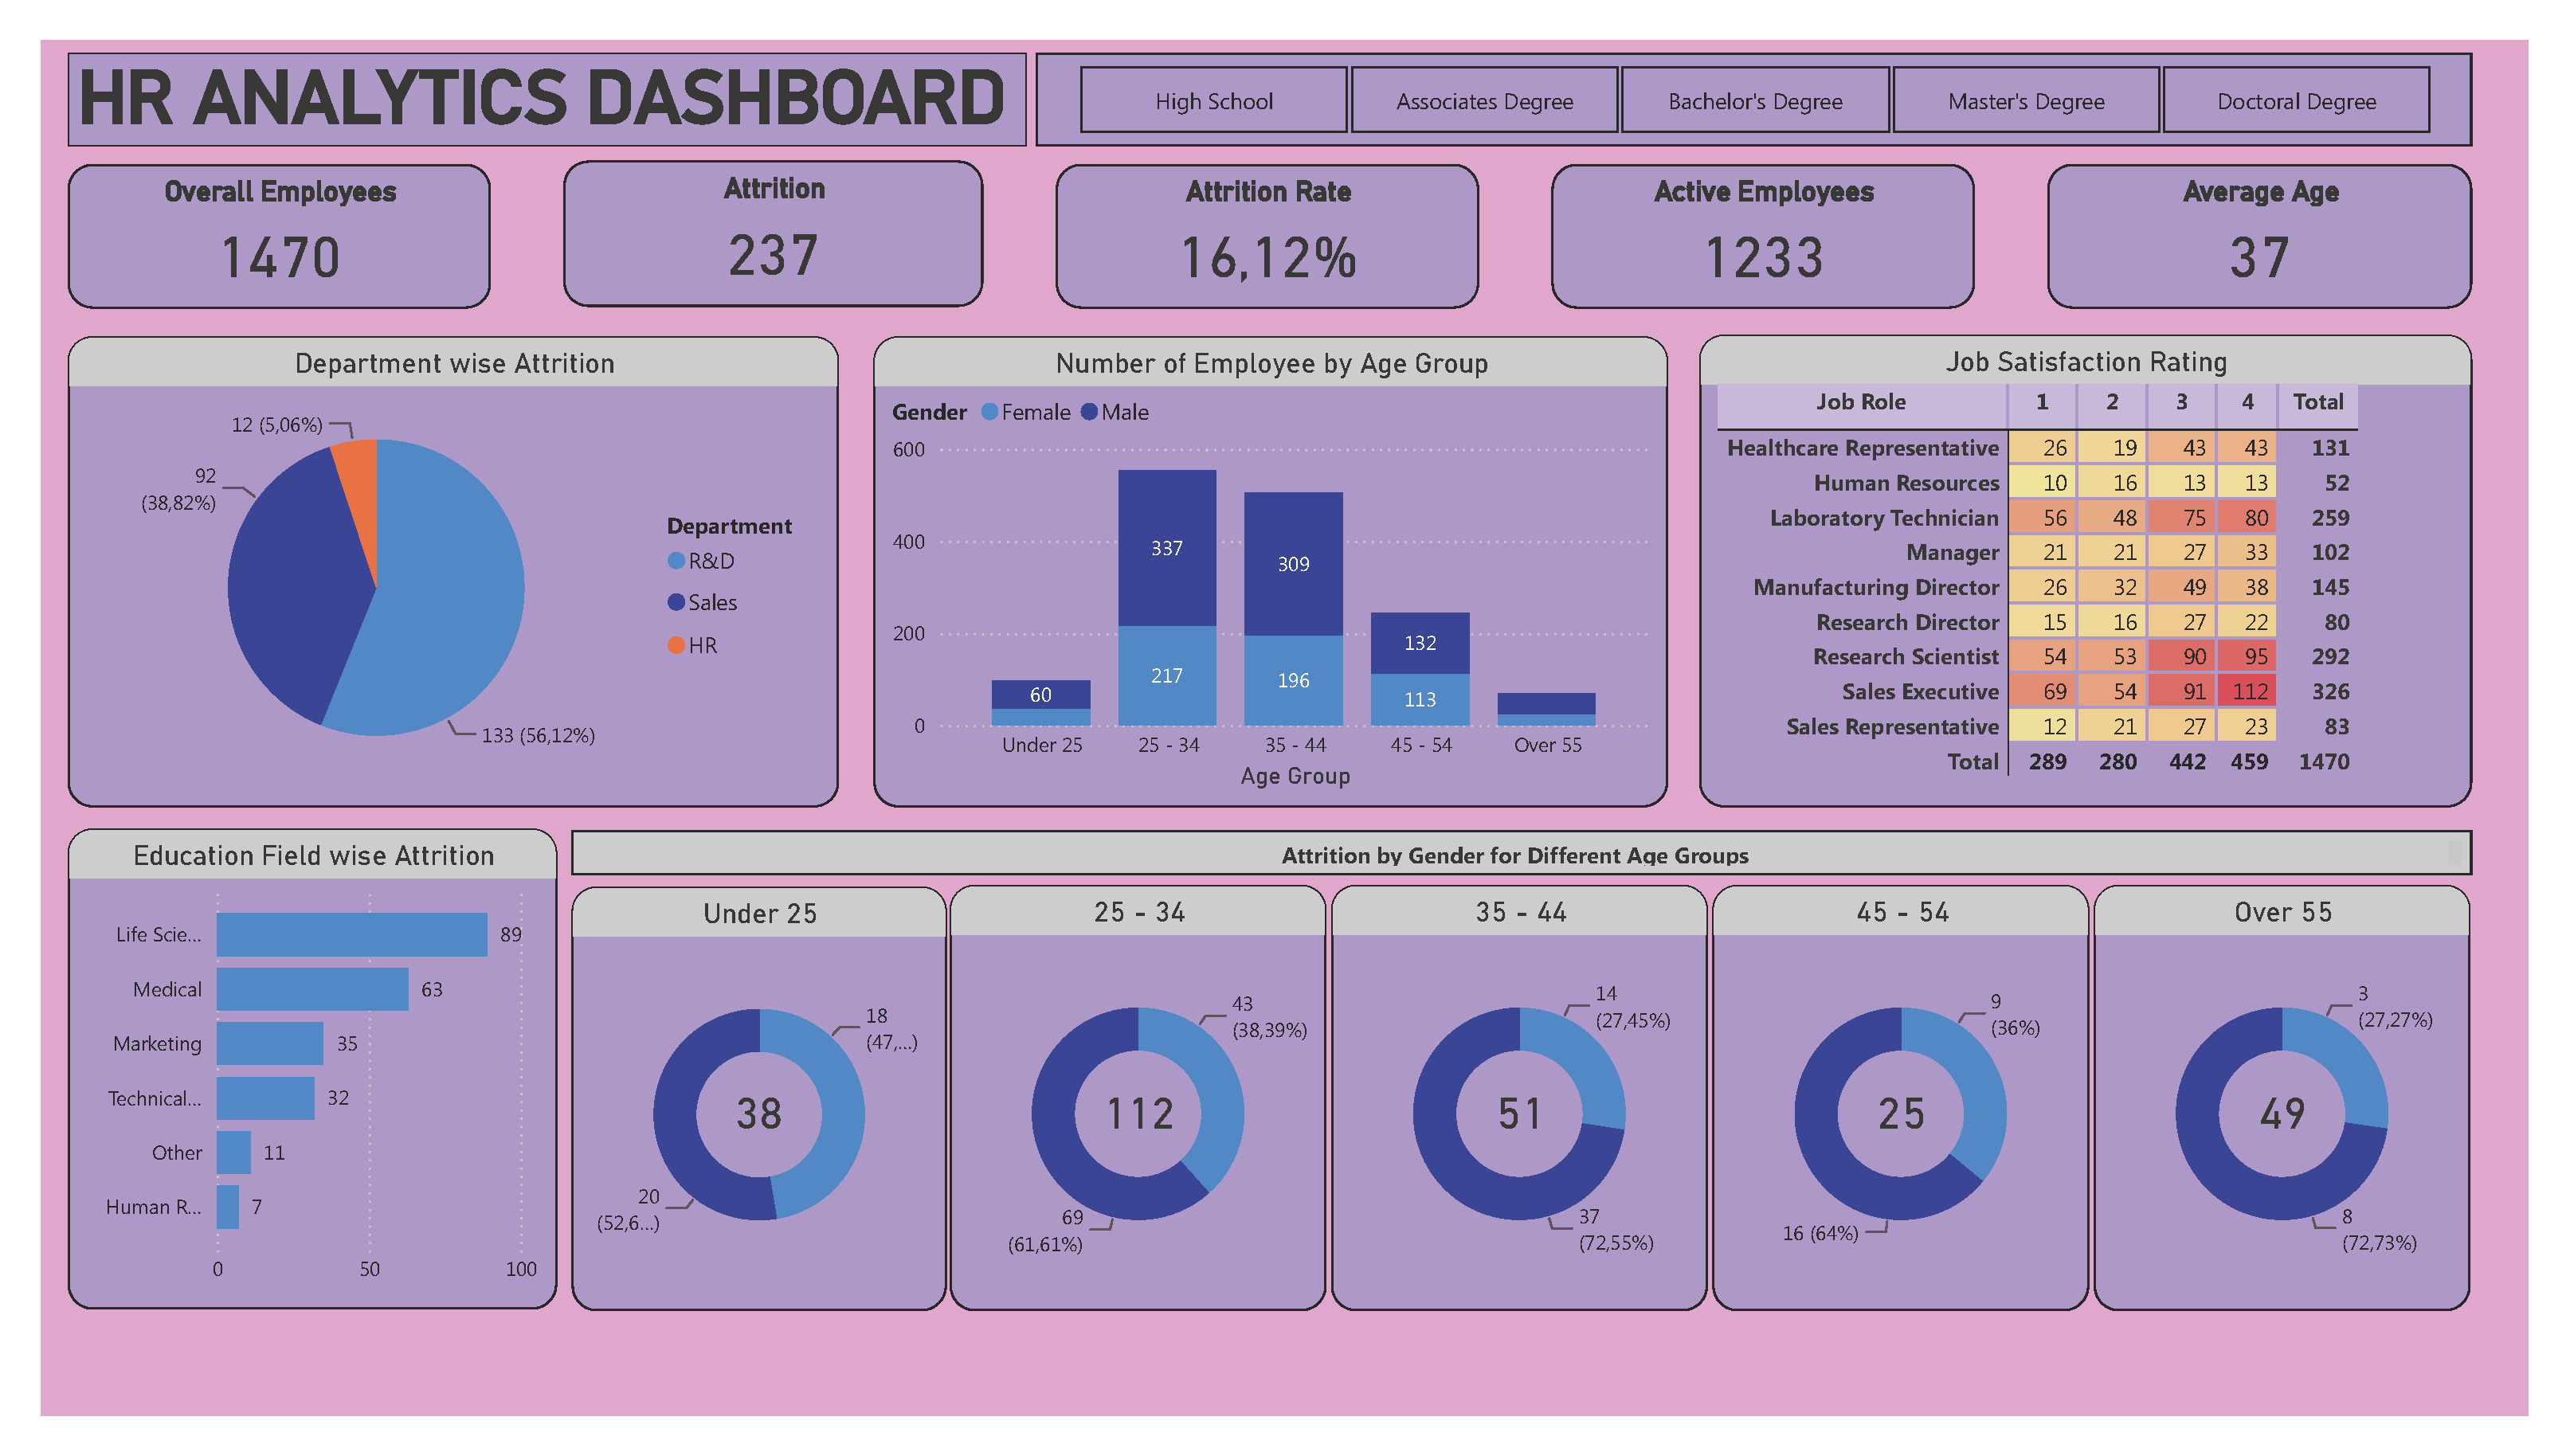

The dashboard page shown, as its layout file describes it:
{"tool":"powerbi","page":{"name":"Page 1","canvas":[1500,830],"ordinal":0},"visuals":[{"type":"card","title":"Overall Employees","fields":{"Values":["Sum(HR data.Employee Count)"]},"box":[15.6,74.6,255.1,87.4],"z":0},{"type":"card","title":"Attrition","fields":{"Values":["Sum(HR data.Attrition Count)"]},"box":[314.6,73.2,253.7,87.4],"z":1000},{"type":"card","title":"Attrition Rate","fields":{"Values":["HR data.Attrition Rate"]},"box":[612.2,74.6,255.1,87.4],"z":2000},{"type":"card","title":"Active Employees","fields":{"Values":["HR data.Active Employees"]},"box":[911.3,74.6,255.1,87.4],"z":3000},{"type":"card","title":"Average Age","fields":{"Values":["Avg(HR data.Age)"]},"box":[1210.3,75,255.6,86.7],"z":4000},{"type":"pieChart","title":"Department wise Attrition","fields":{"Category":["HR data.Department"],"Y":["Sum(HR data.Attrition Count)"]},"box":[15.6,179,465.9,284.2],"z":5000},{"type":"columnChart","title":"Number of Employee by Age Group","fields":{"Category":["HR data.CF_age band"],"Y":["Sum(HR data.Employee Count)"],"Series":["HR data.Gender"]},"box":[502.2,179,478.3,284.2],"z":6000},{"type":"pivotTable","title":"Job Satisfaction Rating","fields":{"Rows":["HR data.Job Role"],"Columns":["HR data.Job Satisfaction"],"Values":["Sum(HR data.Employee Count)"]},"box":[1000.3,178.4,465.6,284.4],"z":6001},{"type":"barChart","title":"Education Field wise Attrition","fields":{"Category":["HR data.Education Field"],"Y":["Sum(HR data.Attrition Count)"]},"box":[15.6,475.6,295.6,290],"z":6002},{"type":"donutChart","title":"Under 25","fields":{"Category":["HR data.Gender"],"Y":["Sum(HR data.Attrition Count)"],"Series":["HR data.CF_age band"]},"box":[320,511,226.5,256.4],"z":6003},{"type":"textbox","box":[320,476.7,1145.6,27.8],"z":6004},{"type":"donutChart","title":"25 - 34","fields":{"Category":["HR data.Gender"],"Y":["Sum(HR data.Attrition Count)"],"Series":["HR data.CF_age band"]},"box":[548.4,510.5,226.7,256.7],"z":6005},{"type":"donutChart","title":"35 - 44","fields":{"Category":["HR data.Gender"],"Y":["Sum(HR data.Attrition Count)"],"Series":["HR data.CF_age band"]},"box":[778.4,510.5,226.7,256.7],"z":6006},{"type":"donutChart","title":"45 - 54","fields":{"Category":["HR data.Gender"],"Y":["Sum(HR data.Attrition Count)"],"Series":["HR data.CF_age band"]},"box":[1008.4,510.5,226.7,256.7],"z":6007},{"type":"donutChart","title":"Over 55","fields":{"Category":["HR data.Gender"],"Y":["Sum(HR data.Attrition Count)"],"Series":["HR data.CF_age band"]},"box":[1238.4,510.5,226.7,256.7],"z":6008},{"type":"card","fields":{"Values":["Sum(HR data.Attrition Count)"]},"box":[402.2,621.1,62.2,51.1],"z":6009},{"type":"card","fields":{"Values":["Sum(HR data.Attrition Count)"]},"box":[631.1,621.1,62.2,51.1],"z":6010},{"type":"card","fields":{"Values":["Sum(HR data.Attrition Count)"]},"box":[861.1,621.1,62.2,51.1],"z":6011},{"type":"card","fields":{"Values":["Sum(HR data.Attrition Count)"]},"box":[1091.1,621.1,62.2,51.1],"z":6012},{"type":"card","fields":{"Values":["Sum(HR data.Attrition Count)"]},"box":[1321.1,621.1,62.2,51.1],"z":6013},{"type":"textbox","title":"HR ANALYTICS DASHBOARD","box":[15.6,7.8,578.9,56.7],"z":6014},{"type":"slicer","fields":{"Values":["HR data.Education"]},"box":[600,7.8,865.6,56.7],"z":6015}]}

Visuals, with their boxes in screenshot pixels (x1, y1, x2, y2):
"Overall Employees" card: 33 146 464 294
"Attrition" card: 539 143 967 292
"Attrition Rate" card: 1041 146 1472 294
"Active Employees" card: 1546 146 1977 294
"Average Age" card: 2051 147 2483 293
"Department wise Attrition" pieChart: 33 323 821 803
"Number of Employee by Age Group" columnChart: 856 323 1663 803
"Job Satisfaction Rating" pivotTable: 1697 322 2483 802
"Education Field wise Attrition" barChart: 33 824 532 1313
"Under 25" donutChart: 547 883 930 1317
textbox: 547 825 2483 872
"25 - 34" donutChart: 934 883 1316 1316
"35 - 44" donutChart: 1322 883 1705 1316
"45 - 54" donutChart: 1710 883 2094 1316
"Over 55" donutChart: 2099 883 2482 1316
card - Sum(HR data.Attrition Count): 686 1070 791 1156
card - Sum(HR data.Attrition Count): 1073 1070 1178 1156
card - Sum(HR data.Attrition Count): 1462 1070 1567 1156
card - Sum(HR data.Attrition Count): 1851 1070 1955 1156
card - Sum(HR data.Attrition Count): 2239 1070 2344 1156
"HR ANALYTICS DASHBOARD" textbox: 33 33 1011 129
slicer - HR data.Education: 1021 33 2483 129
